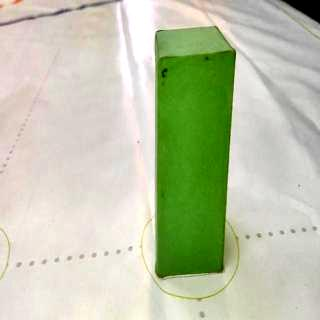greenbox: (154, 23, 236, 282)
